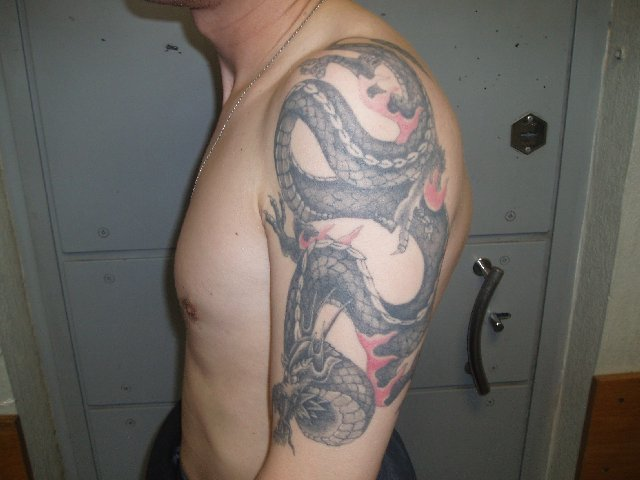tatu6_drakon: (244, 25, 484, 460)
